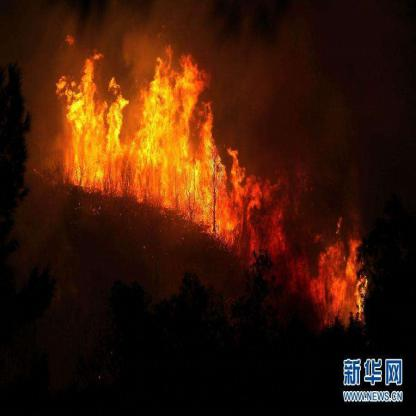fire: (63, 34, 369, 332)
